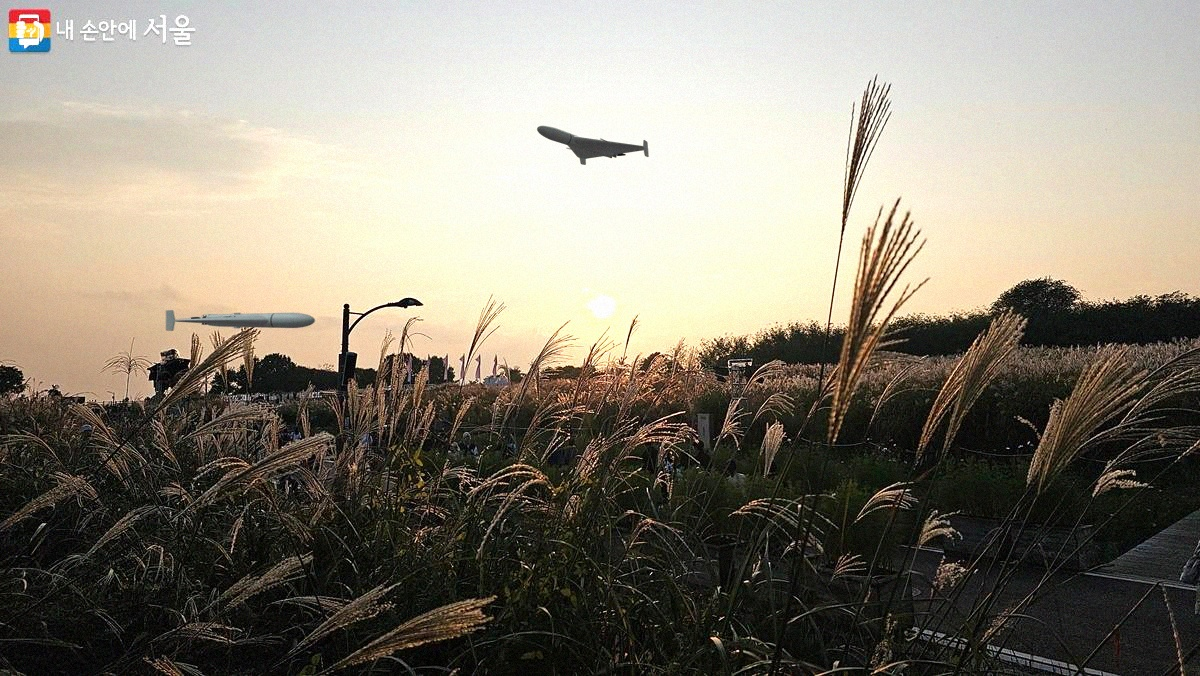shahed: (531, 119, 651, 173), (160, 301, 316, 333)
